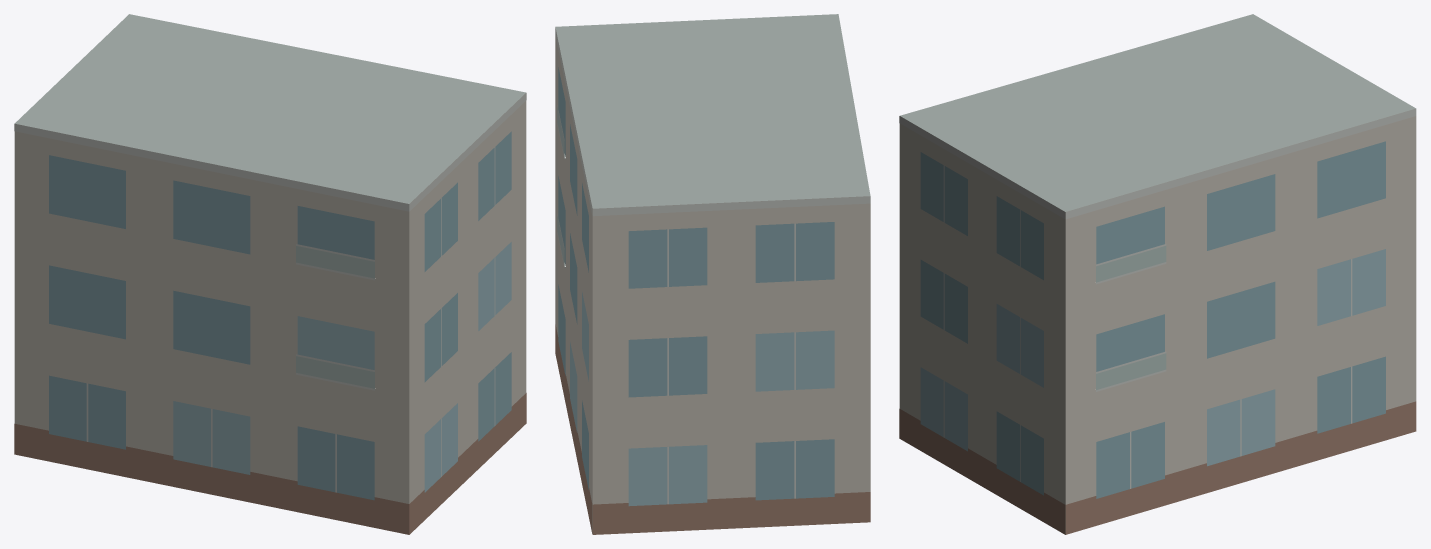
The model's file is survey-upis-32506558.glb.
The picture shows the model from 3 angles, left to right: view 1: azimuth 30°, elevation 25°; view 2: azimuth 150°, elevation 25°; view 3: azimuth 270°, elevation 25°; orthographic projection. The views are drawn at different scales.
Visible parts, largest first — view 1: survey-upis-32506558.tmp; view 2: survey-upis-32506558.tmp; view 3: survey-upis-32506558.tmp.
Part boxes in pixels (x1,y1,x2,y2): survey-upis-32506558.tmp: (14,14,526,534); survey-upis-32506558.tmp: (555,14,870,534); survey-upis-32506558.tmp: (899,14,1416,534).
Bounding box in the file's own units: 13.95 × 10.6 × 15.39.
